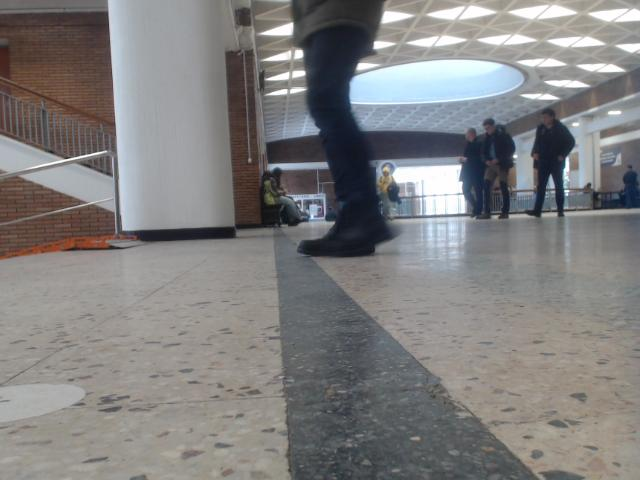rampDown: (0, 235, 137, 259)
ramps-railing: (0, 151, 120, 233)
